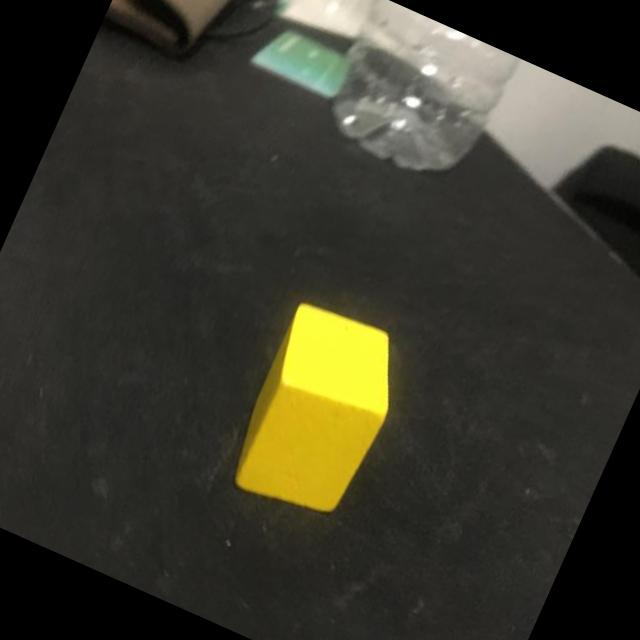yellow: (220, 294, 418, 529)
